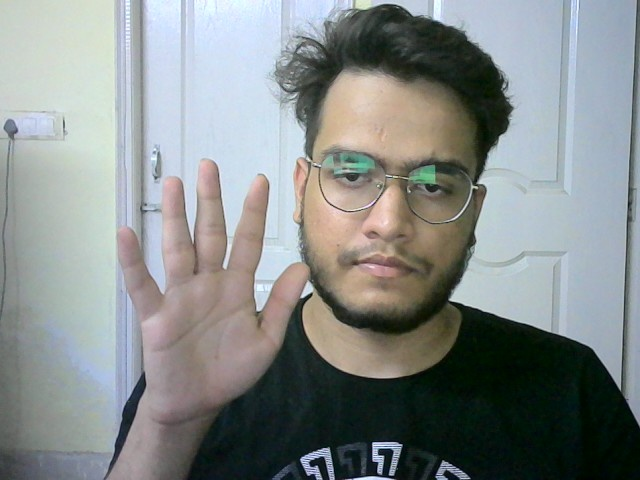Hello: (113, 155, 308, 412)
